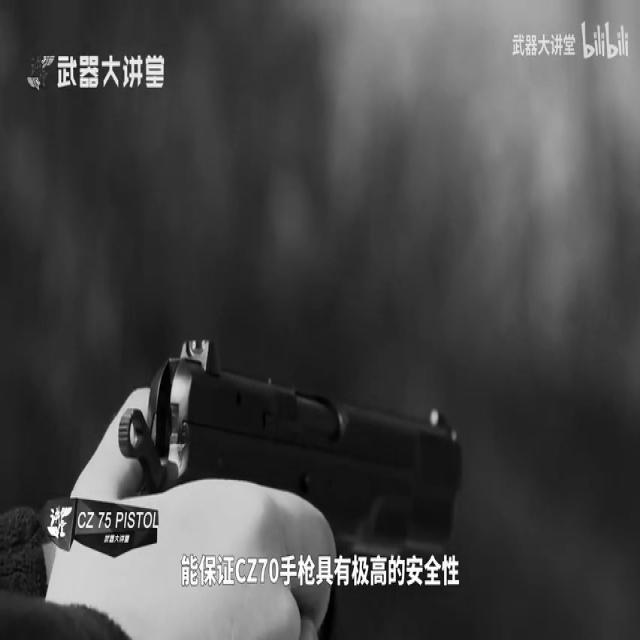Hand-Gun: (111, 316, 464, 574)
